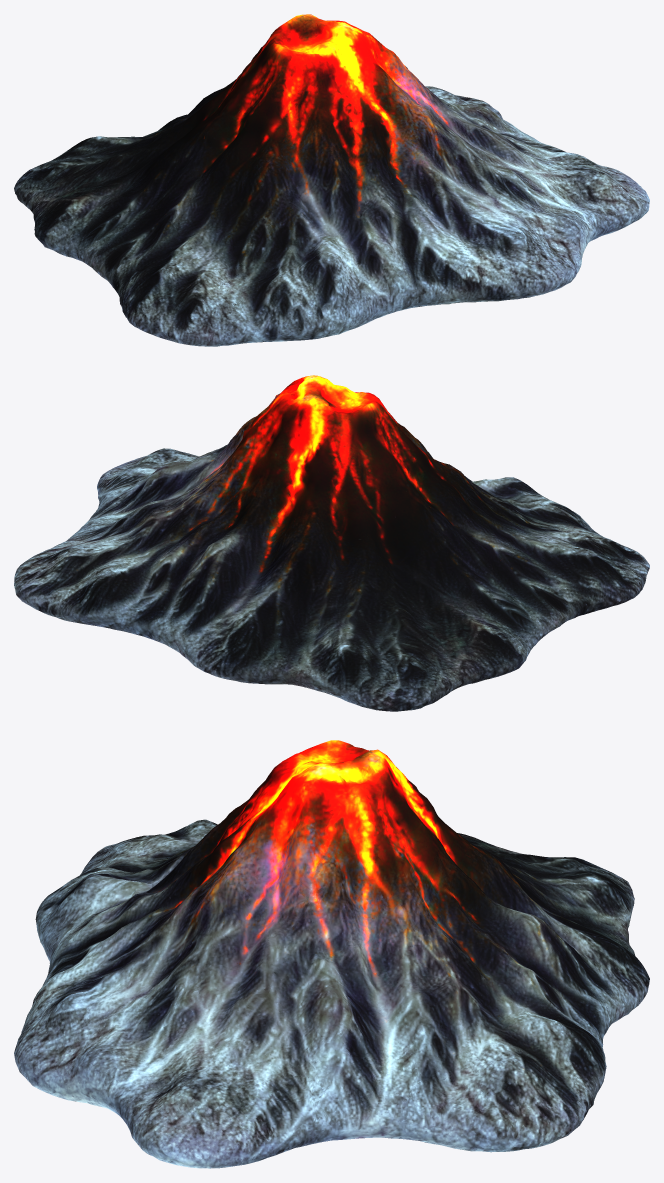
The model's file is vulcao_em_erupcao_-_erupting_volcano.glb.
3 renders of one model, top to bottom at view 1: azimuth 30°, elevation 25°; view 2: azimuth 150°, elevation 25°; view 3: azimuth 270°, elevation 25°, orthographic. The views are drawn at different scales.
Visible parts, largest first — view 1: mesh_obj; view 2: mesh_obj; view 3: mesh_obj.
Part boxes in pixels (bbox=[...]): mesh_obj: bbox=[14, 14, 649, 346]; mesh_obj: bbox=[14, 375, 649, 711]; mesh_obj: bbox=[14, 740, 649, 1168].
Bounding box in the file's own units: 0.7602 × 0.2921 × 0.6392.
Materials: 1 (1 with a texture image).
